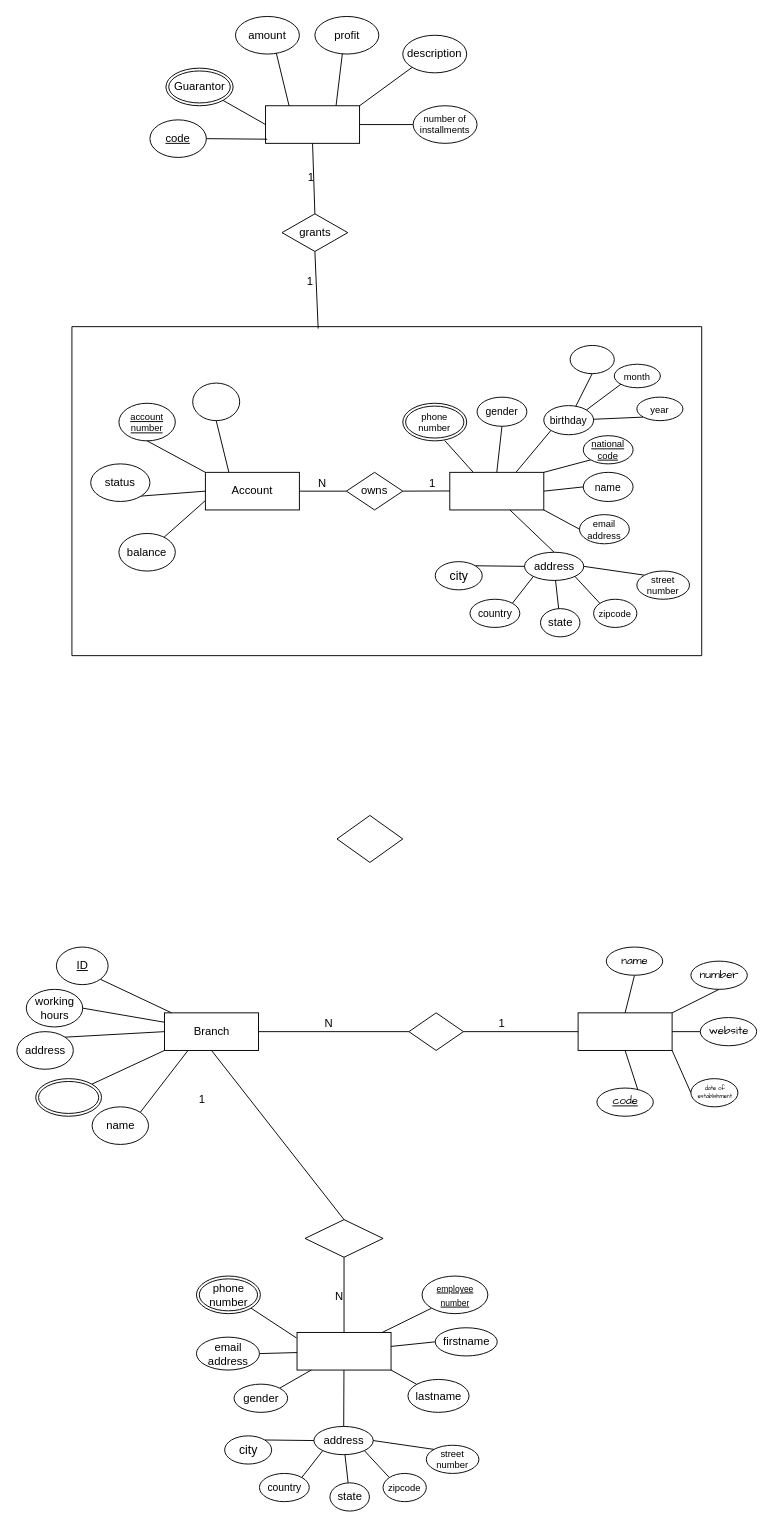
Image size: 773x1528. Some labels were removed from this diagram. Here are the shapes that lost their labels. From the top down, the centre of each, then its label:
At (312,124): "Loan".
At (591,359): "day".
At (216,401): "type".
At (496,490): "Customer".
At (369,838): "holds".
At (435,1031): "has".
At (624,1031): "Bank".
At (68,1097): "numbers".
At (343,1238): "employe".
At (343,1351): "Employee".
